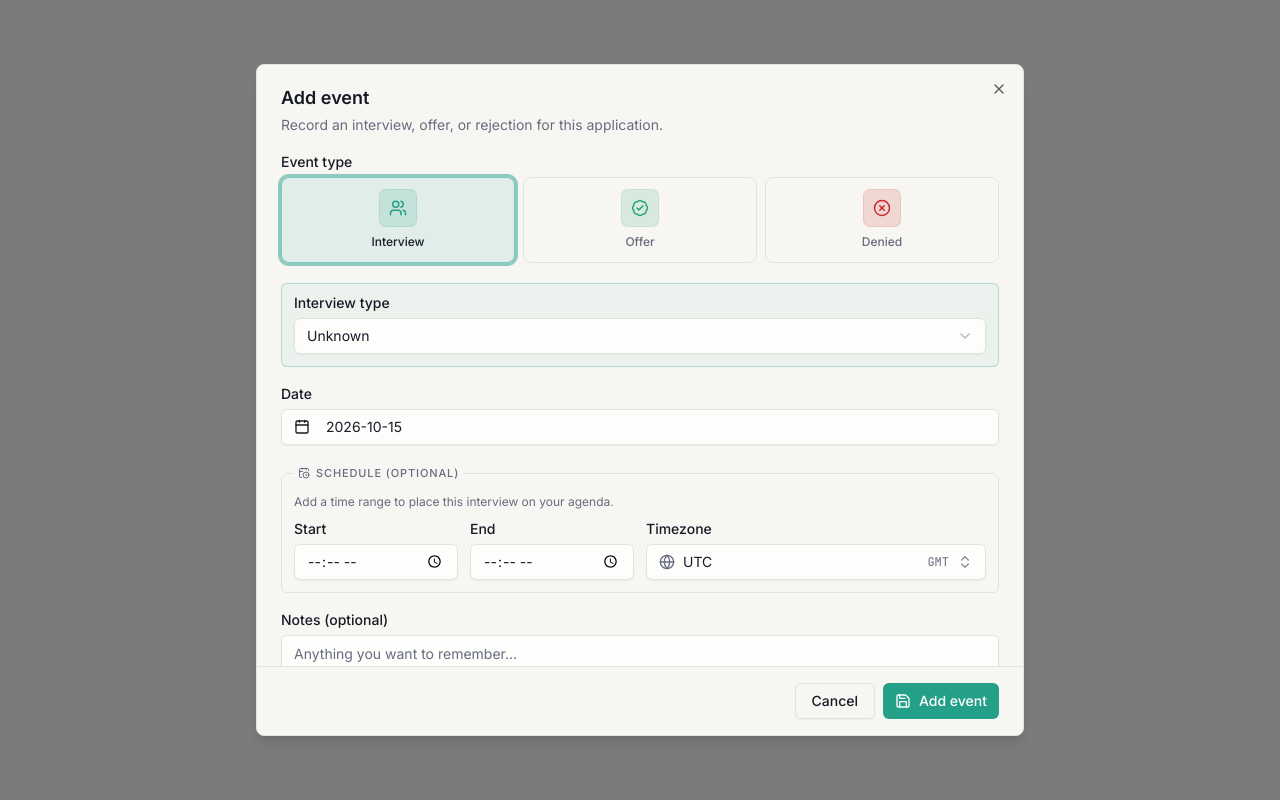
it: TimelineEventForm close mode — outcome date › Add event with Offer caps the date at today while the box is ticked
Click the radio button labelled "Offer" at (640, 220), box x1=523 y1=177 x2=757 y2=263
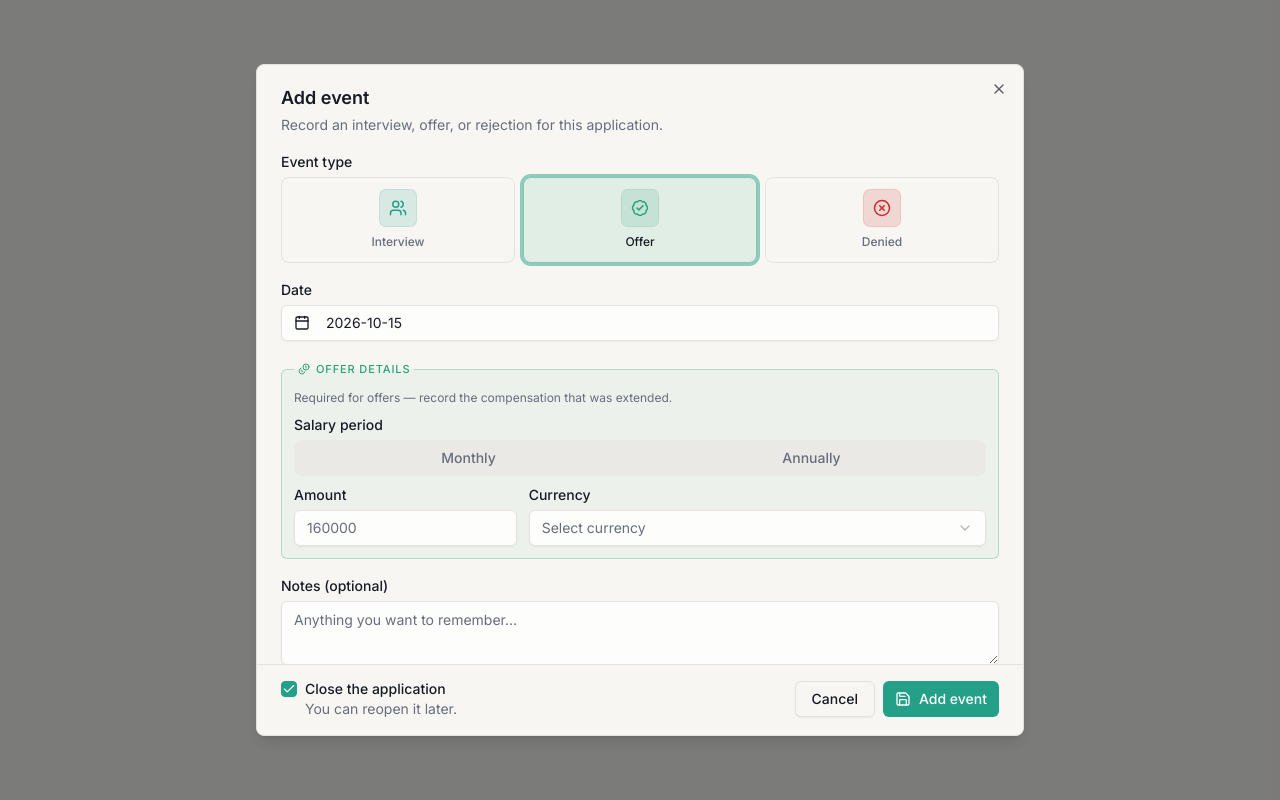
Click the button named "Date" at (364, 322), box x1=281 y1=305 x2=999 y2=341
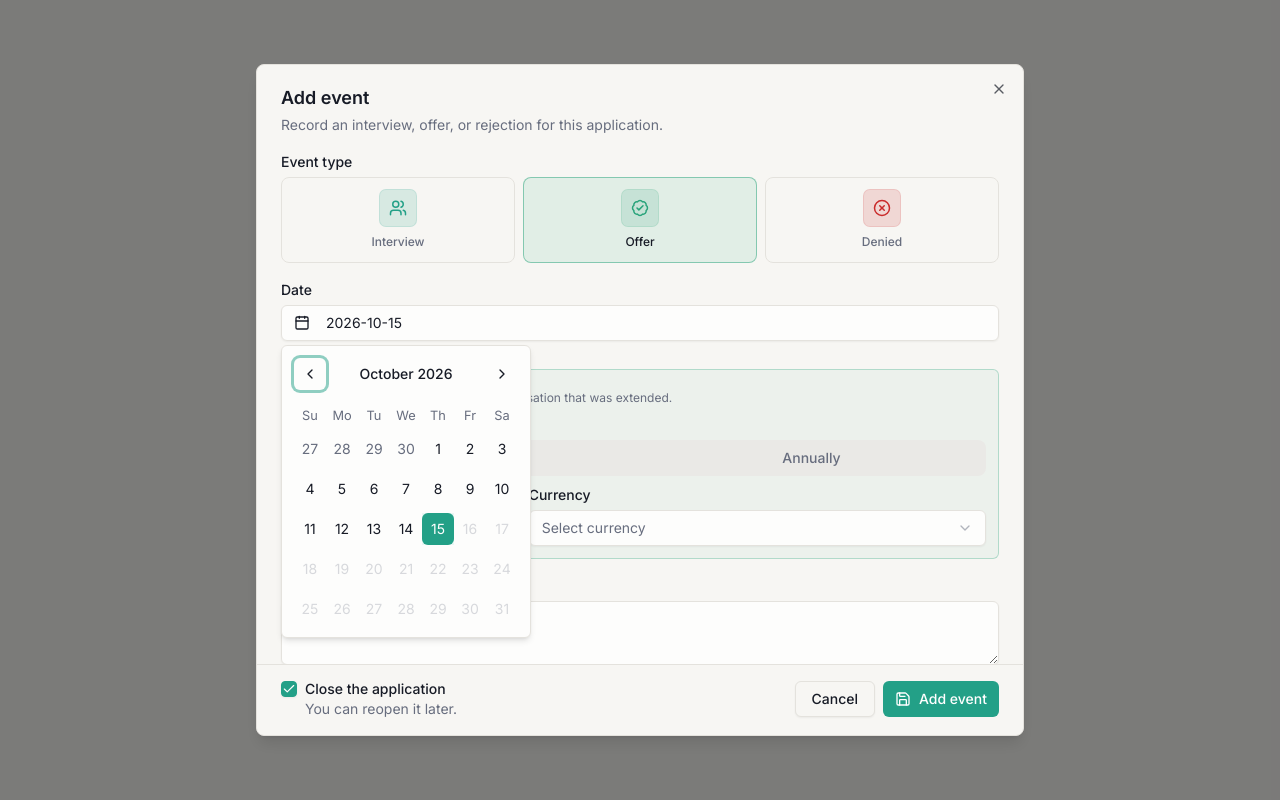
Check: the button "15" is enabled, box x1=422 y1=513 x2=454 y2=545
Check: the button "16" is disabled, box x1=454 y1=513 x2=486 y2=545
